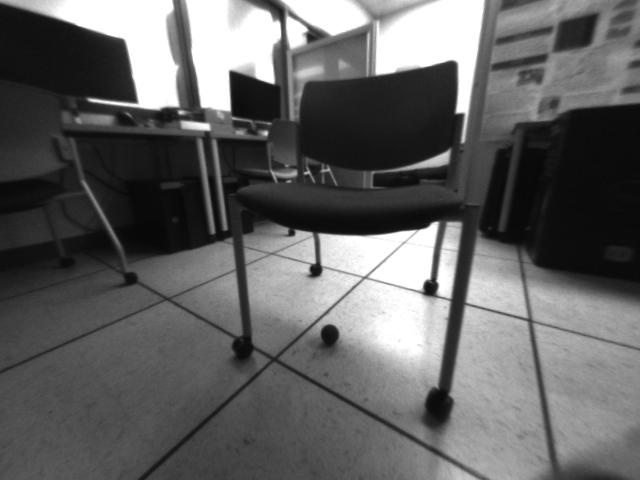dogtoy: (316, 318, 345, 352)
